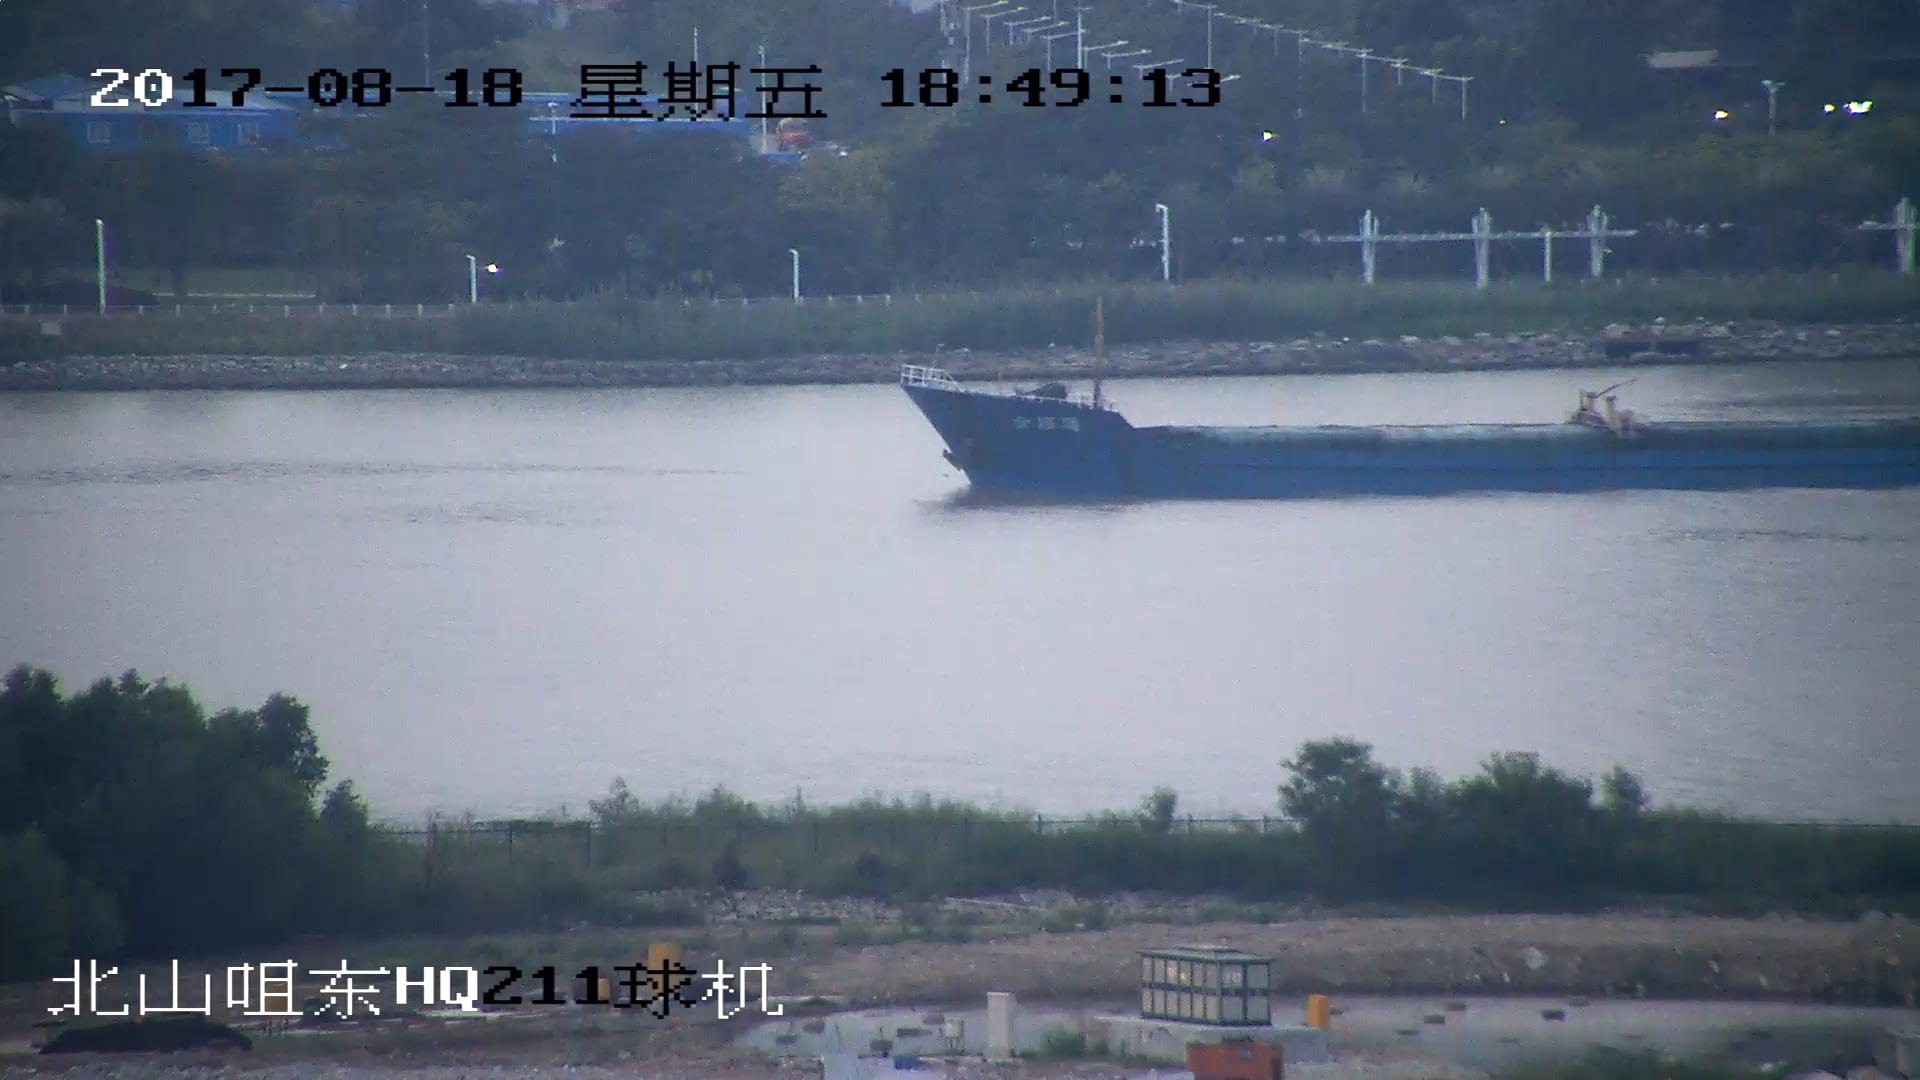general cargo ship: (901, 365, 1920, 495)
